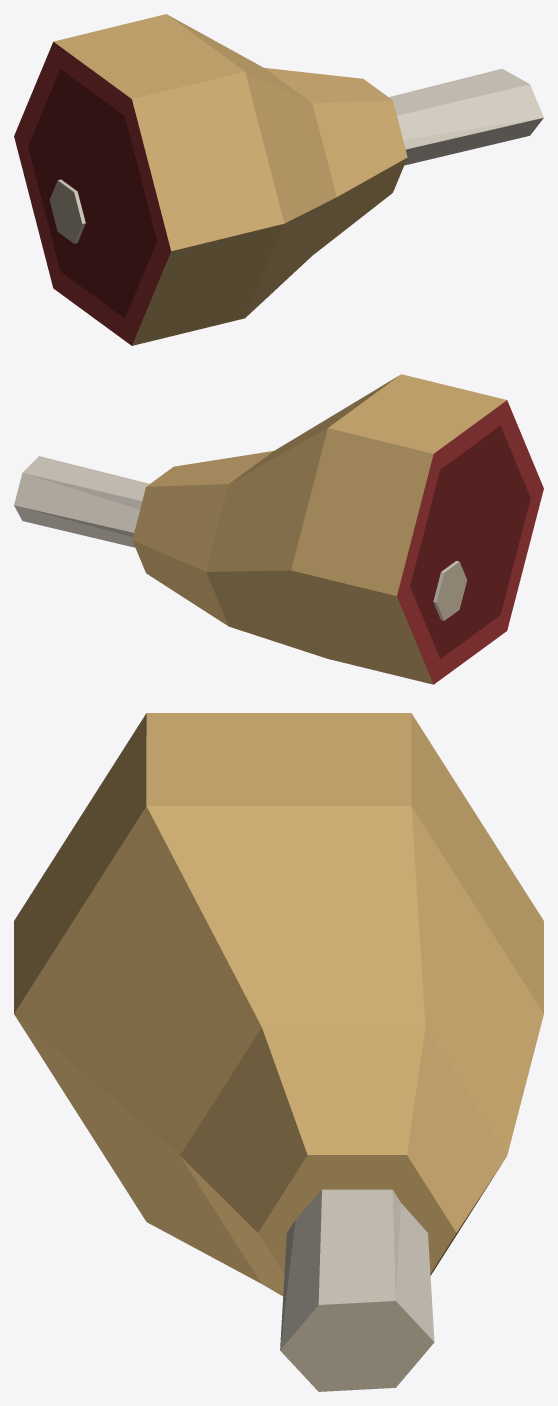
The model's file is TB_Prop_Meat.FBX.
The picture shows the model from 3 angles, top to bottom: view 1: azimuth 30°, elevation 25°; view 2: azimuth 150°, elevation 25°; view 3: azimuth 270°, elevation 25°; orthographic projection. The views are drawn at different scales.
Visible parts, largest first — view 1: TB_Prop_Meat; view 2: TB_Prop_Meat; view 3: TB_Prop_Meat.
Boxes of the visible parts, x1,y1,x2,y2 form: TB_Prop_Meat: (14, 14, 543, 345); TB_Prop_Meat: (14, 374, 543, 684); TB_Prop_Meat: (14, 713, 543, 1391).
Bounding box in the file's own units: 0.8977 × 0.4652 × 0.5371.
